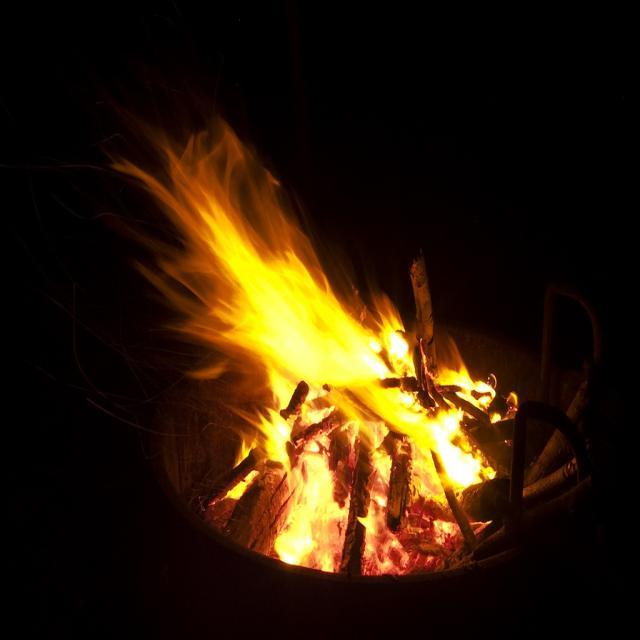Fire: (249, 284, 365, 396)
